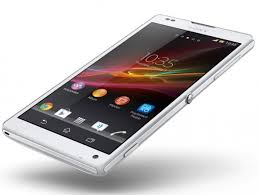sony: (2, 13, 256, 177)
